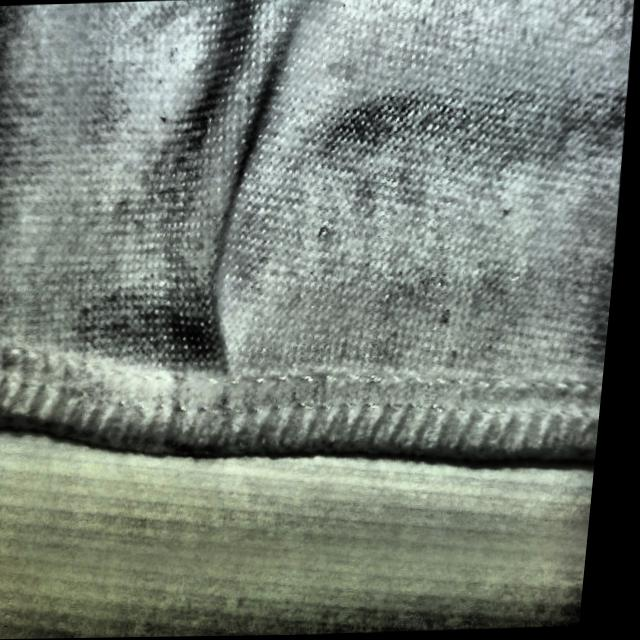seam: (136, 137, 285, 457)
